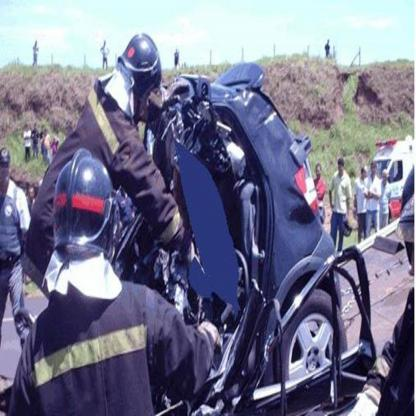face: (131, 81, 158, 120), (1, 160, 11, 189), (339, 164, 343, 175), (372, 164, 376, 174), (364, 171, 368, 178), (317, 169, 320, 178), (384, 174, 387, 183)
